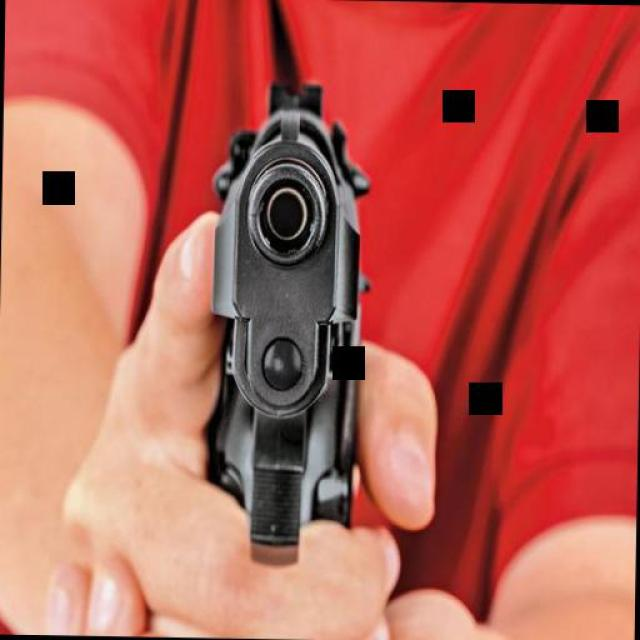gun: (190, 41, 380, 568)
